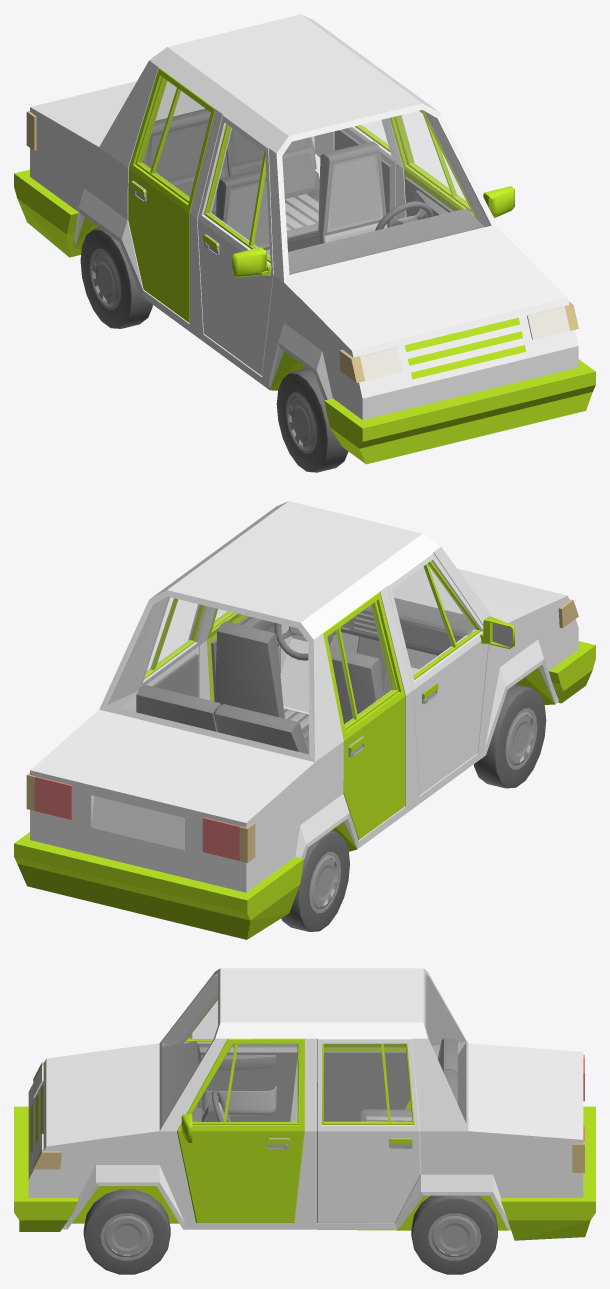
The picture shows the model from 3 angles, top to bottom: view 1: azimuth 30°, elevation 25°; view 2: azimuth 150°, elevation 25°; view 3: azimuth 270°, elevation 25°; orthographic projection. The views are drawn at different scales.
Parts seen in each view (by area): view 1: Chassis_Chassis_0, Windows_Windows_0, Chassis_Bumpers_0, Interior_InteriorPanel_0, FR_Door_Chassis_0, RR_Door_Chassis_0, Interior_Handler_0, RR_Door_Windows_0, FR_Door_Windows_0, FR_Wheel_Tire_0, RR_Wheel_Tire_0, FR_Door_Bumpers_0 (+11 smaller); view 2: Chassis_Chassis_0, Windows_Windows_0, Chassis_Bumpers_0, Interior_InteriorPanel_0, FR_Door_Chassis_0, RR_Door_Chassis_0, FR_Door_Windows_0, RR_Door_Windows_0, FR_Wheel_Tire_0, RR_Wheel_Tire_0, Brake_Lights_Brake_lights_0, FR_Door_Bumpers_0 (+11 smaller); view 3: Chassis_Chassis_0, FL_Door_Chassis_0, RL_Door_Chassis_0, Chassis_Bumpers_0, Windows_Windows_0, FL_Door_Windows_0, RL_Door_Windows_0, RR_Door_InteriorPanel_0, FL_Wheel_Tire_0, RL_Wheel_Tire_0, FR_Door_InteriorPanel_0, Interior_InteriorPanel_0 (+9 smaller).
Part boxes in pixels (bbox=[...]): Chassis_Chassis_0: bbox=[30, 14, 578, 419]; Windows_Windows_0: bbox=[156, 82, 489, 273]; Chassis_Bumpers_0: bbox=[14, 169, 595, 464]; Interior_InteriorPanel_0: bbox=[142, 108, 484, 274]; FR_Door_Chassis_0: bbox=[197, 115, 273, 375]; RR_Door_Chassis_0: bbox=[128, 68, 215, 322]; Interior_Handler_0: bbox=[226, 153, 386, 255]; RR_Door_Windows_0: bbox=[139, 80, 209, 198]; FR_Door_Windows_0: bbox=[208, 127, 269, 258]; FR_Wheel_Tire_0: bbox=[276, 368, 348, 472]; RR_Wheel_Tire_0: bbox=[80, 227, 152, 328]; FR_Door_Bumpers_0: bbox=[203, 124, 271, 277]; Chassis_Chassis_0: bbox=[30, 501, 578, 892]; Windows_Windows_0: bbox=[108, 568, 461, 753]; Chassis_Bumpers_0: bbox=[14, 641, 595, 939]; Interior_InteriorPanel_0: bbox=[136, 601, 473, 754]; FR_Door_Chassis_0: bbox=[387, 553, 488, 795]; RR_Door_Chassis_0: bbox=[323, 592, 405, 839]; FR_Door_Windows_0: bbox=[392, 563, 477, 675]; RR_Door_Windows_0: bbox=[328, 604, 395, 726]; FR_Wheel_Tire_0: bbox=[474, 684, 546, 788]; RR_Wheel_Tire_0: bbox=[281, 830, 349, 931]; Brake_Lights_Brake_lights_0: bbox=[34, 776, 239, 860]; FR_Door_Bumpers_0: bbox=[413, 561, 514, 701]; Chassis_Chassis_0: bbox=[28, 968, 583, 1229]; FL_Door_Chassis_0: bbox=[177, 1038, 304, 1223]; RL_Door_Chassis_0: bbox=[317, 1038, 420, 1223]; Chassis_Bumpers_0: bbox=[14, 1085, 595, 1240]; Windows_Windows_0: bbox=[164, 974, 465, 1120]; FL_Door_Windows_0: bbox=[192, 1044, 297, 1122]; RL_Door_Windows_0: bbox=[324, 1044, 411, 1121]; RR_Door_InteriorPanel_0: bbox=[324, 1052, 410, 1121]; FL_Wheel_Tire_0: bbox=[83, 1189, 170, 1274]; RL_Wheel_Tire_0: bbox=[411, 1195, 497, 1274]; FR_Door_InteriorPanel_0: bbox=[200, 1052, 297, 1121]; Interior_InteriorPanel_0: bbox=[162, 1038, 457, 1123].
Bounding box in the file's own units: 5.2 × 4.99 × 11.18.
